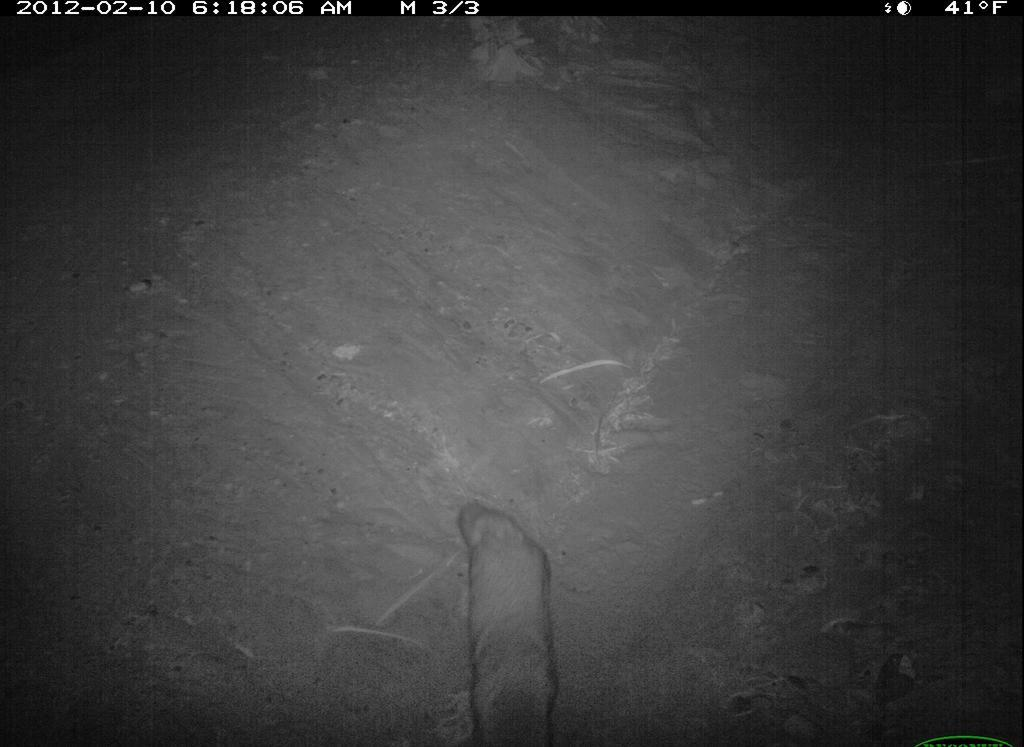coyote: (441, 482, 589, 747)
